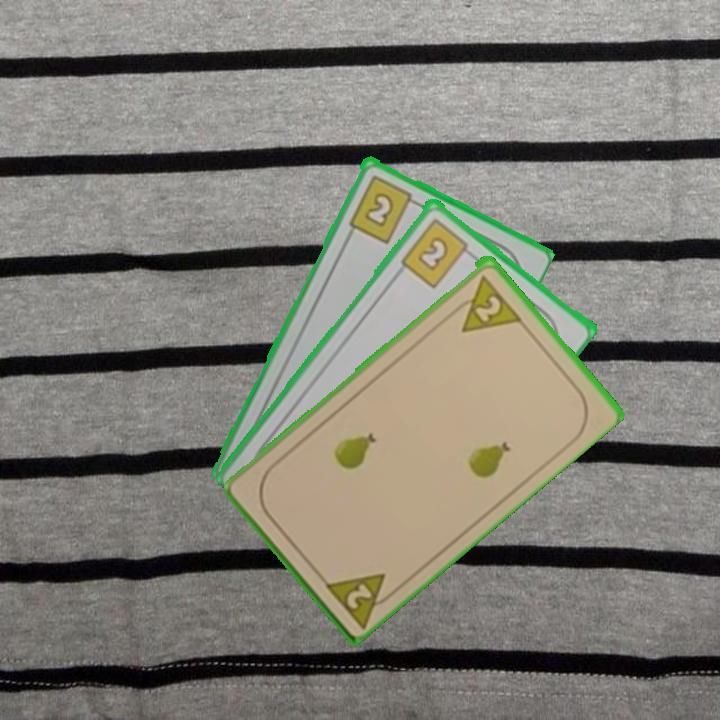2b: (397, 214, 477, 290), (345, 171, 422, 246)
2p: (446, 269, 523, 336), (342, 579, 376, 612)
